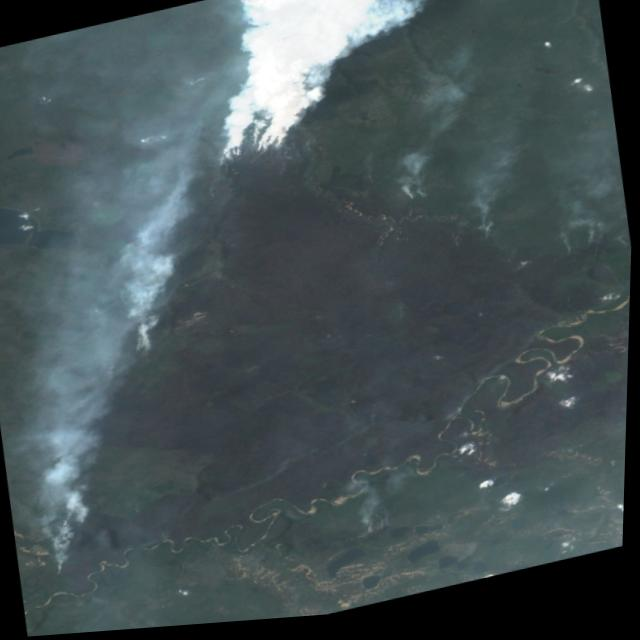fire: (200, 97, 333, 190), (37, 499, 109, 591), (538, 219, 634, 285), (392, 177, 446, 223), (118, 334, 167, 377)
